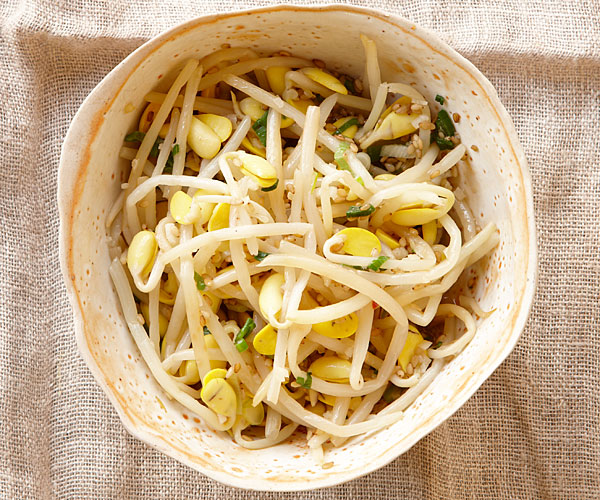mung_bean_sprouts: (102, 41, 482, 455)
